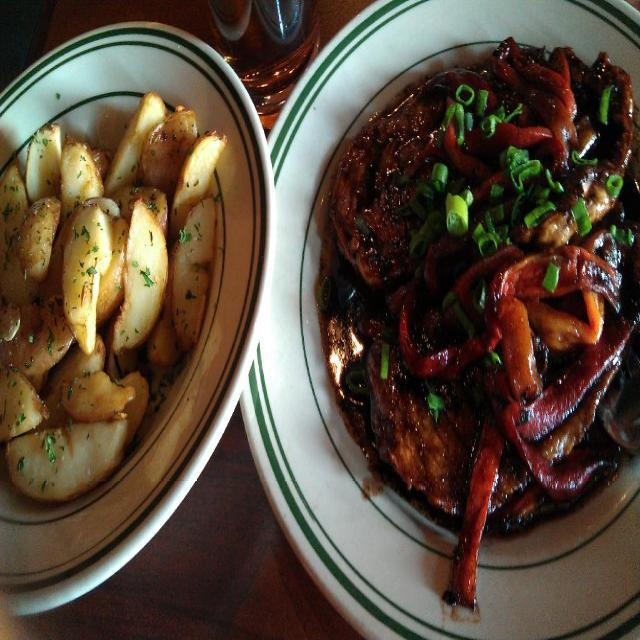Potato: (0, 91, 228, 505)
